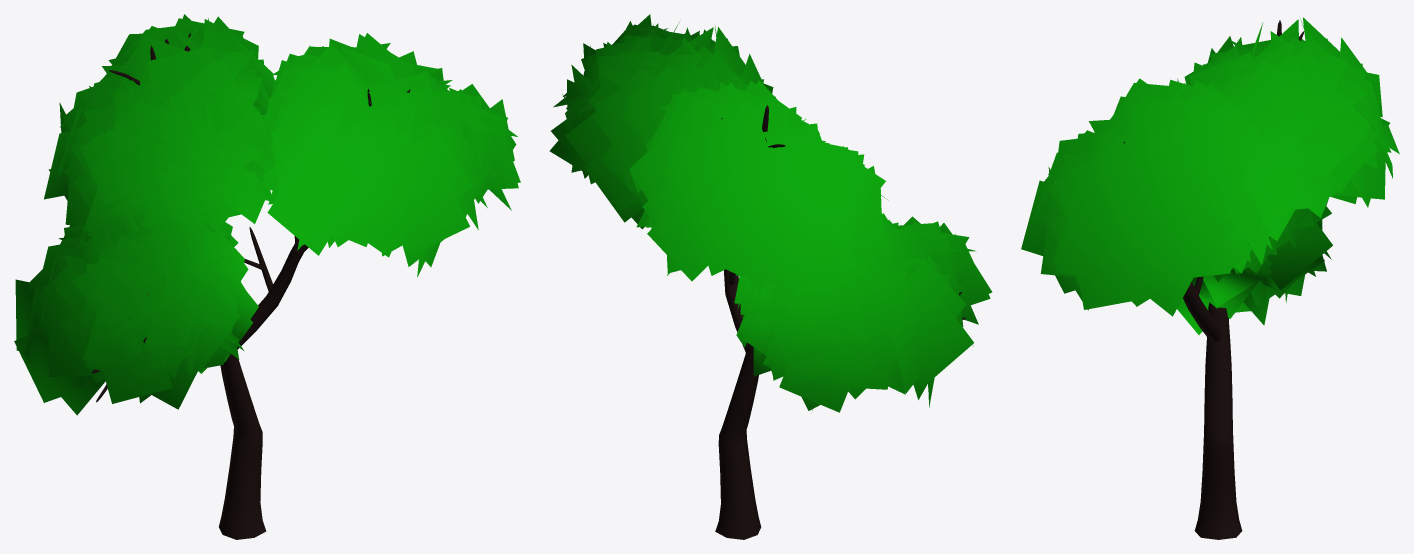
Rendered from MapleTree_1.obj.
3 views of the same model, side by side, from view 1: azimuth 30°, elevation 25°; view 2: azimuth 150°, elevation 25°; view 3: azimuth 270°, elevation 25° (orthographic). The views are drawn at different scales.
Parts seen in each view (by area): view 1: MapleTree_5_Cube.010; view 2: MapleTree_5_Cube.010; view 3: MapleTree_5_Cube.010.
Boxes of the visible parts, left/top/right/bottom form: MapleTree_5_Cube.010: left=14, top=14, right=520, bottom=539; MapleTree_5_Cube.010: left=549, top=14, right=992, bottom=539; MapleTree_5_Cube.010: left=1021, top=17, right=1399, bottom=539.
Bounding box in the file's own units: 7.01 × 7.28 × 5.08.
